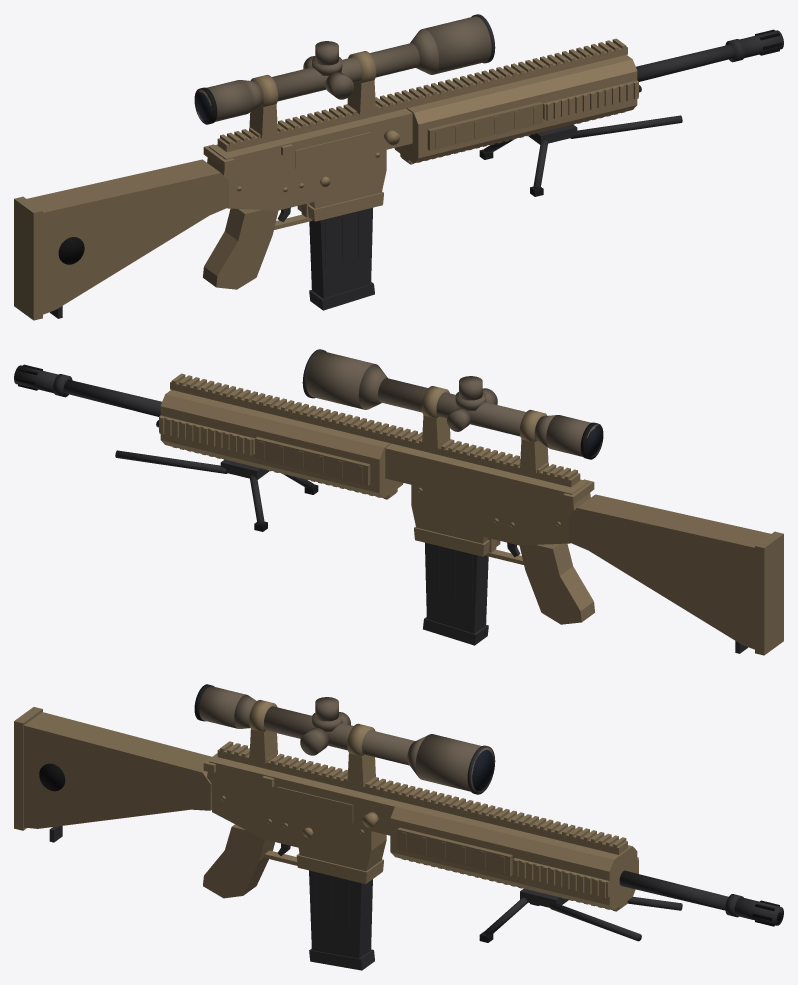
File: dmr01_rig.glb
3 views of the same model, one above another, from view 1: azimuth 30°, elevation 25°; view 2: azimuth 150°, elevation 25°; view 3: azimuth 330°, elevation 25° (orthographic).
Parts seen in each view (by area): view 1: M_Stock, M_Handguard, M_TopRail, M_LowerReceiver, M_UpperReceiver, M_Magazine, M_PistolGrip, M_ButtPlate, M_ScopeTube, M_ScopeObjective, M_RailCovers, M_SideRails (+15 smaller); view 2: M_Stock, M_Handguard, M_TopRail, M_UpperReceiver, M_LowerReceiver, M_Magazine, M_PistolGrip, M_ButtPlate, M_ScopeTube, M_ScopeObjective, M_RailCovers, M_SideRails (+12 smaller); view 3: M_Stock, M_Handguard, M_TopRail, M_LowerReceiver, M_UpperReceiver, M_Magazine, M_PistolGrip, M_ScopeTube, M_ScopeObjective, M_RailCovers, M_SideRails, M_Barrel (+19 smaller).
Boxes of the visible parts, bbox=[...] form: M_Stock: bbox=[27, 159, 228, 314]; M_Handguard: bbox=[394, 55, 637, 163]; M_TopRail: bbox=[217, 38, 627, 152]; M_LowerReceiver: bbox=[227, 150, 386, 210]; M_UpperReceiver: bbox=[207, 108, 412, 188]; M_Magazine: bbox=[309, 207, 372, 298]; M_PistolGrip: bbox=[203, 208, 278, 289]; M_ButtPlate: bbox=[14, 196, 42, 320]; M_ScopeTube: bbox=[255, 43, 419, 104]; M_ScopeObjective: bbox=[423, 16, 491, 74]; M_RailCovers: bbox=[427, 102, 542, 150]; M_SideRails: bbox=[400, 80, 638, 164]; M_Stock: bbox=[569, 494, 770, 649]; M_Handguard: bbox=[160, 390, 403, 498]; M_TopRail: bbox=[170, 373, 580, 487]; M_UpperReceiver: bbox=[385, 443, 590, 523]; M_LowerReceiver: bbox=[411, 485, 570, 545]; M_Magazine: bbox=[425, 542, 488, 633]; M_PistolGrip: bbox=[519, 543, 594, 624]; M_ButtPlate: bbox=[755, 531, 783, 655]; M_ScopeTube: bbox=[378, 378, 542, 439]; M_ScopeObjective: bbox=[306, 351, 374, 409]; M_RailCovers: bbox=[255, 437, 370, 485]; M_SideRails: bbox=[159, 415, 397, 499]; M_Stock: bbox=[24, 712, 211, 828]; M_Handguard: bbox=[390, 802, 637, 910]; M_TopRail: bbox=[217, 741, 627, 854]; M_LowerReceiver: bbox=[212, 792, 386, 871]; M_UpperReceiver: bbox=[207, 755, 400, 835]; M_Magazine: bbox=[309, 870, 372, 958]; M_PistolGrip: bbox=[203, 824, 274, 898]; M_ScopeTube: bbox=[264, 706, 414, 765]; M_ScopeObjective: bbox=[415, 734, 494, 793]; M_RailCovers: bbox=[397, 827, 512, 876]; M_SideRails: bbox=[402, 857, 638, 911]; M_Barrel: bbox=[619, 870, 728, 910].
Bounding box in the file's own units: 1.04 × 0.3379 × 0.132.
